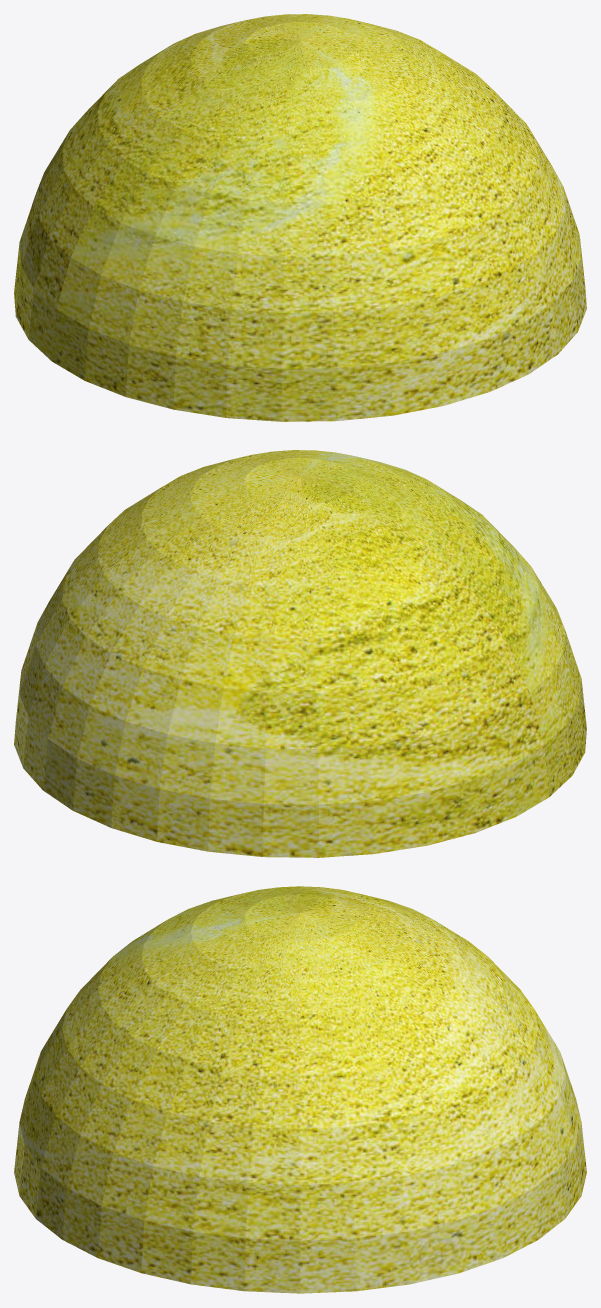
The model's file is Azufre.glb.
The picture shows the model from 3 angles, top to bottom: view 1: azimuth 30°, elevation 25°; view 2: azimuth 150°, elevation 25°; view 3: azimuth 270°, elevation 25°; orthographic projection.
Parts seen in each view (by area): view 1: Esfera; view 2: Esfera; view 3: Esfera.
Part boxes in pixels (x1=…): Esfera: x1=14, y1=14, x2=586, y2=421; Esfera: x1=14, y1=450, x2=586, y2=857; Esfera: x1=14, y1=886, x2=586, y2=1293.
Bounding box in the file's own units: 2 × 1 × 2.
Materials: 1 (1 with a texture image).
